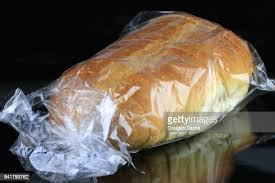bread: (8, 11, 258, 177)
